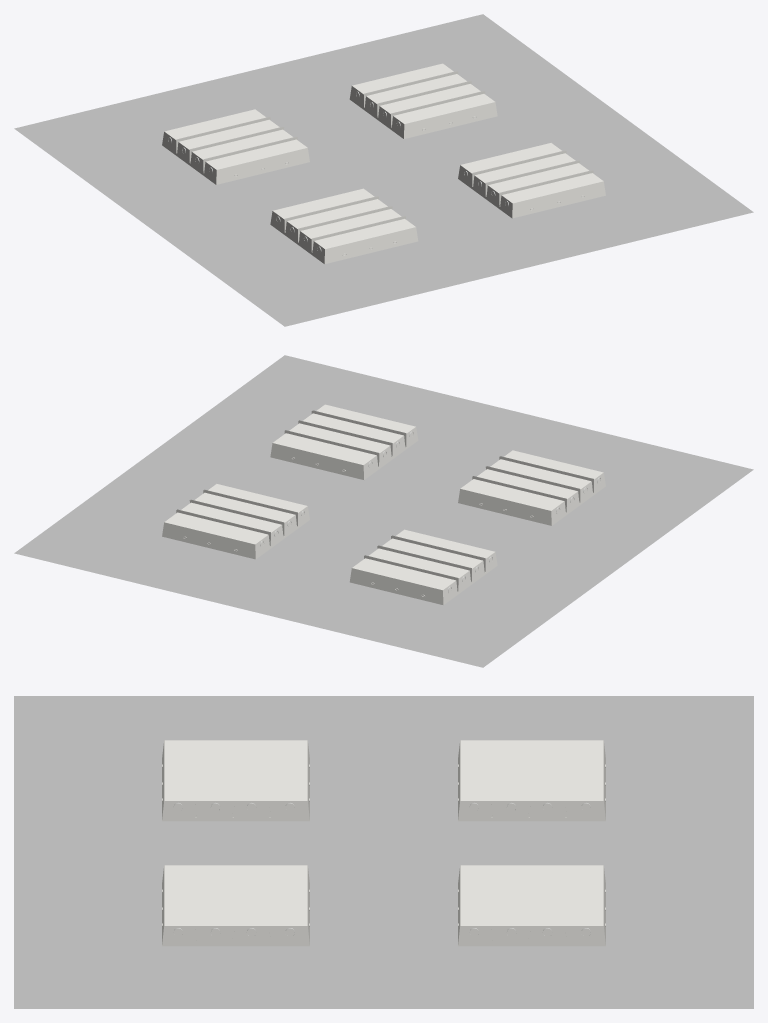
Rendered from SM_Ceiling_Lights_SingleSided_Uncapped.fbx.
The picture shows the model from 3 angles, top to bottom: view 1: azimuth 30°, elevation 25°; view 2: azimuth 150°, elevation 25°; view 3: azimuth 270°, elevation 25°; orthographic projection. The views are drawn at different scales.
Visible parts, largest first — view 1: SM_Ceiling_Lights_SingleSided_Uncapped; view 2: SM_Ceiling_Lights_SingleSided_Uncapped; view 3: SM_Ceiling_Lights_SingleSided_Uncapped.
Part boxes in pixels (x1=…): SM_Ceiling_Lights_SingleSided_Uncapped: x1=14, y1=14, x2=753, y2=326; SM_Ceiling_Lights_SingleSided_Uncapped: x1=14, y1=355, x2=753, y2=667; SM_Ceiling_Lights_SingleSided_Uncapped: x1=14, y1=696, x2=753, y2=1008.
Size of the model in its own units: 700 by 700 by 23.23.
